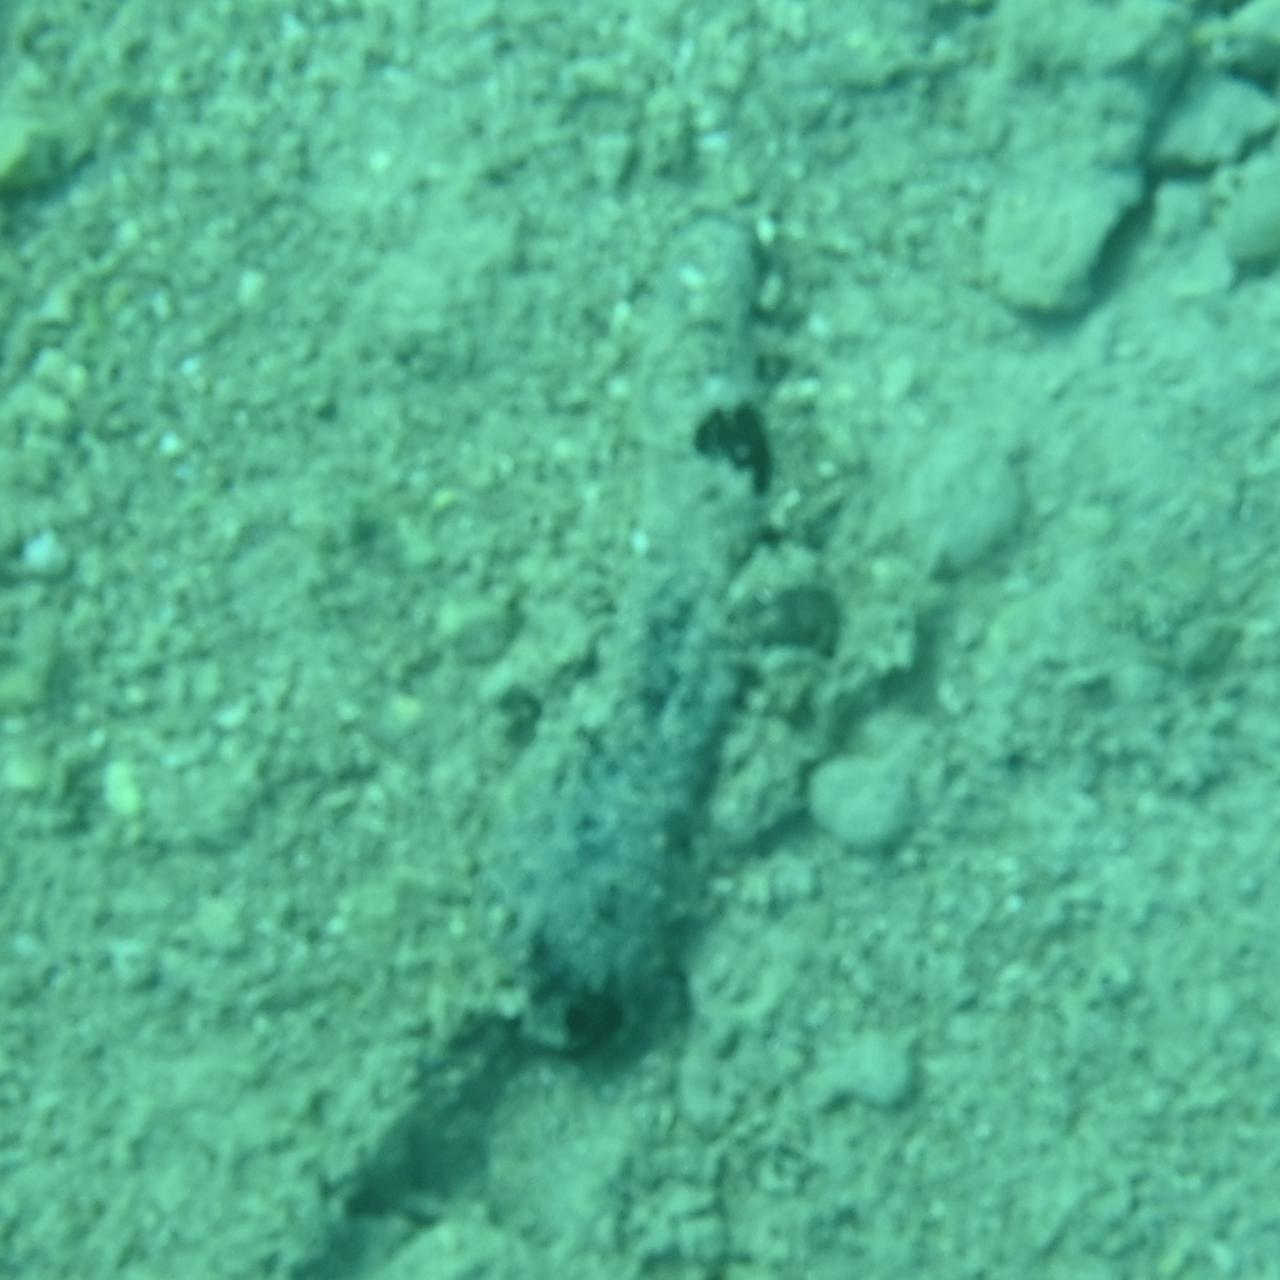Holothuria tubulosa: (496, 204, 784, 1076)
